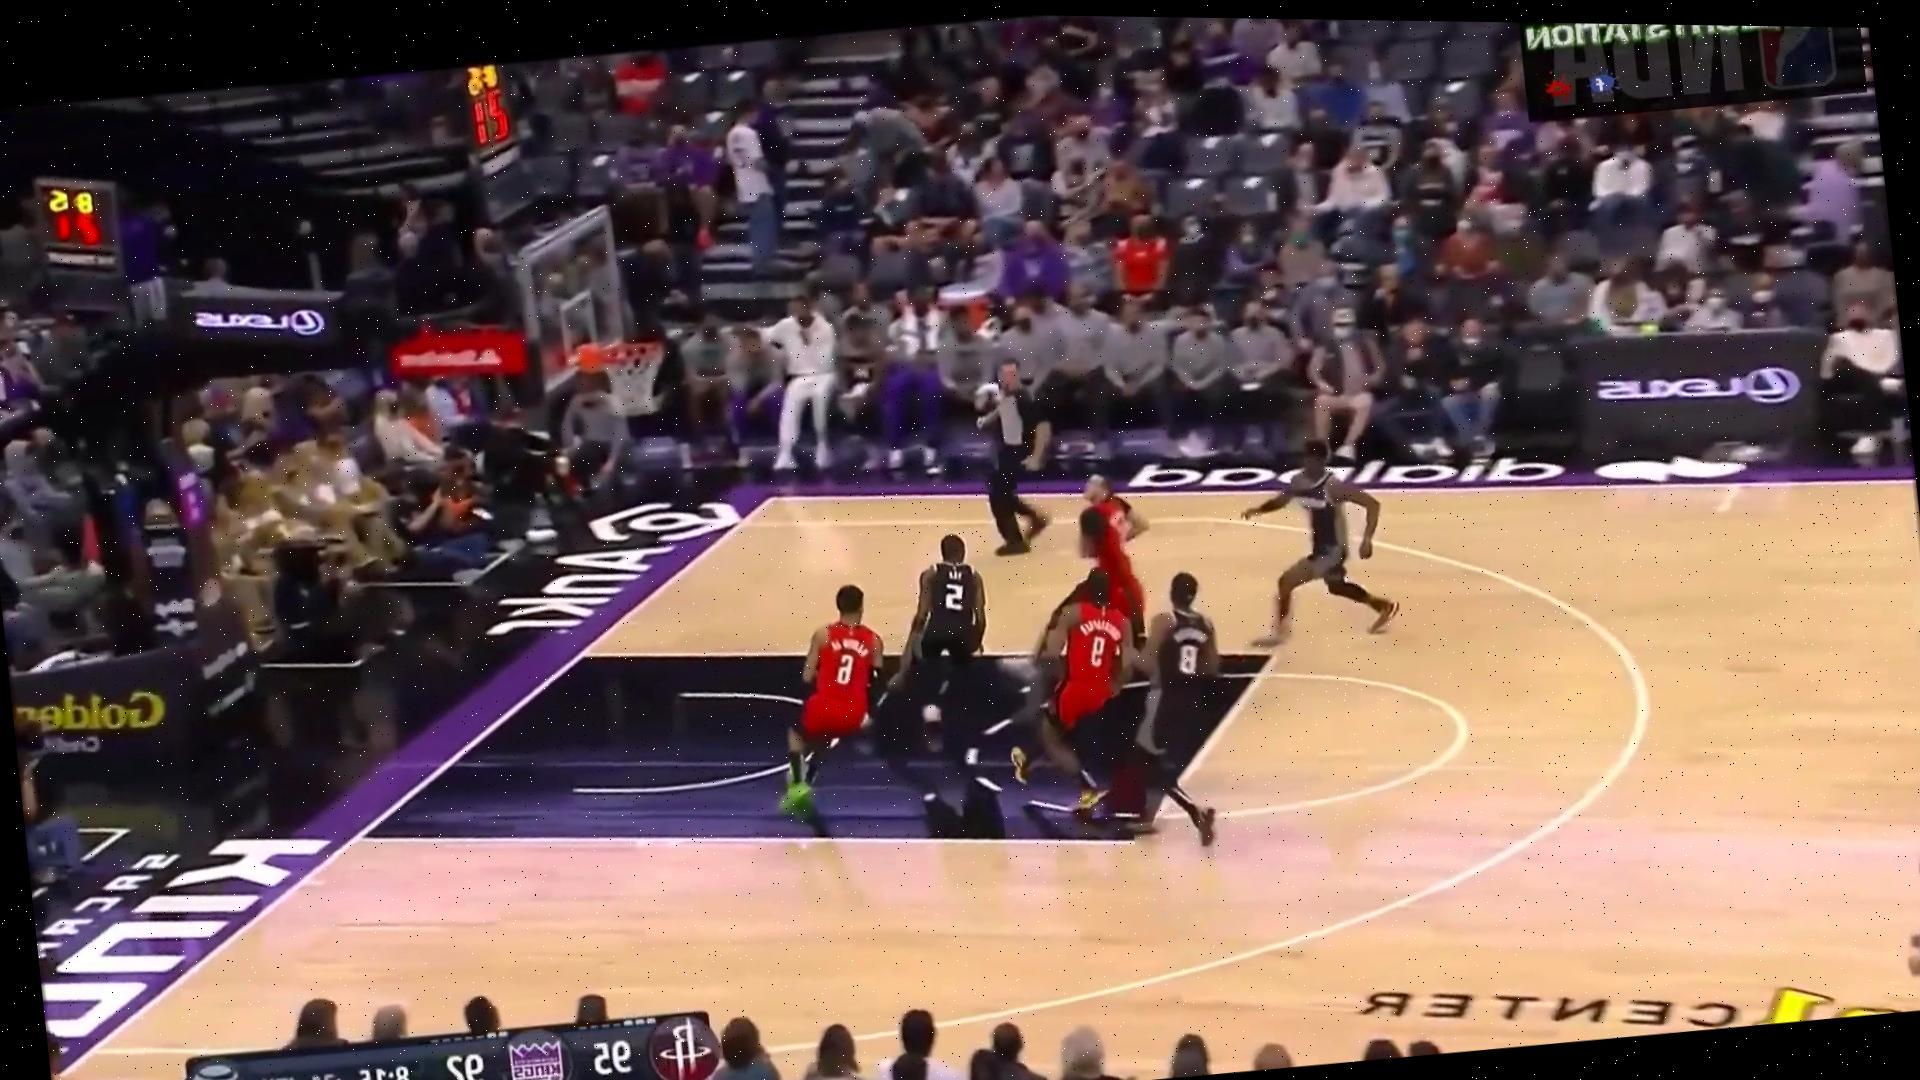no_foul: (1004, 555, 1261, 845)
